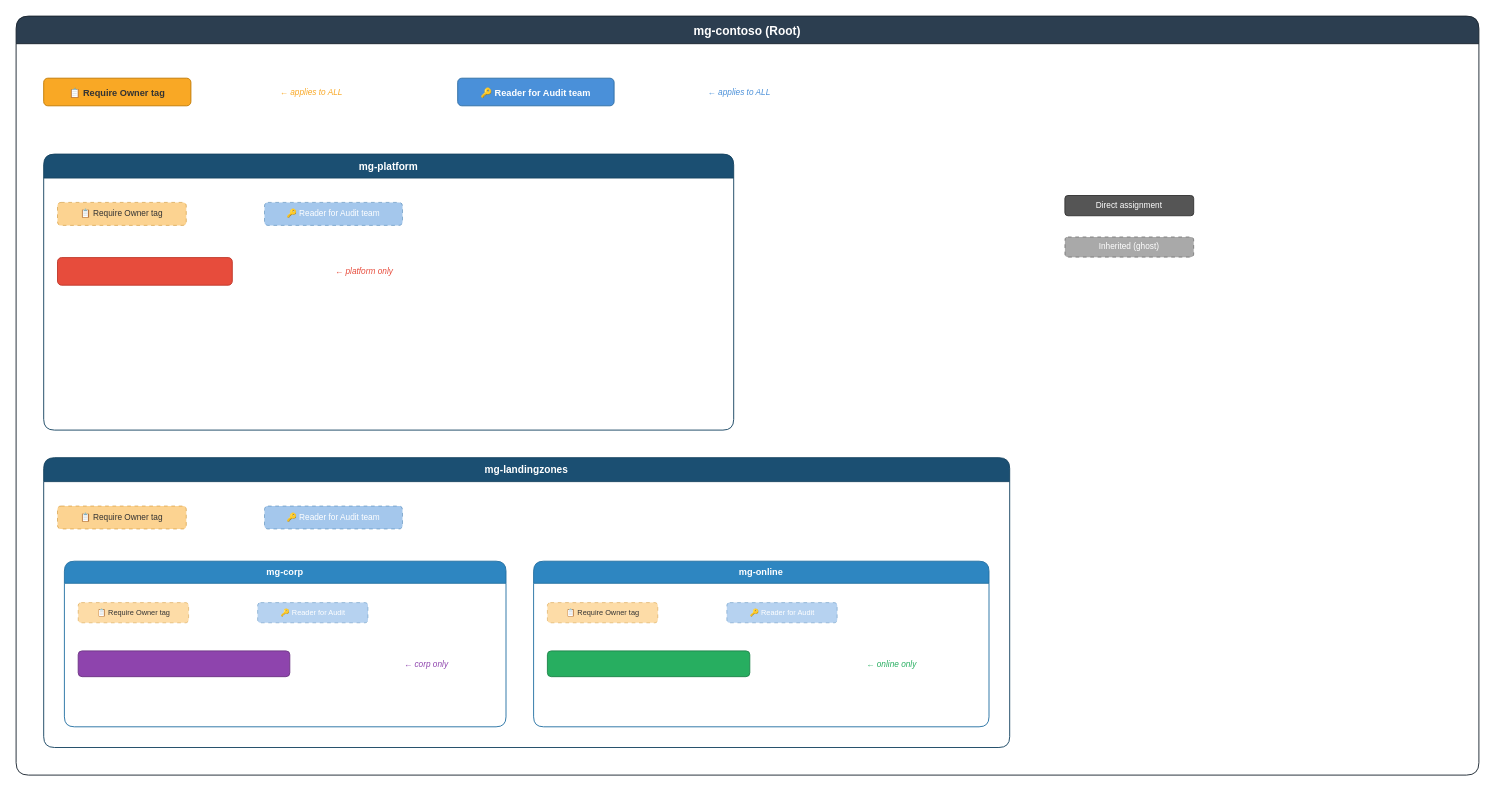
The diagram is 1495 pixels wide and 791 high, and some of its shapes have lost their labels. The shapes that lost their labels are listed below. From the top down, each one's centre as x and y in pixels, then its label:
At (x=144, y=271): "🚫 Deny public IP creation".
At (x=183, y=663): "🔒 Require private endpoints for PaaS".
At (x=648, y=663): "🌐 Allow public endpoints with WAF".
